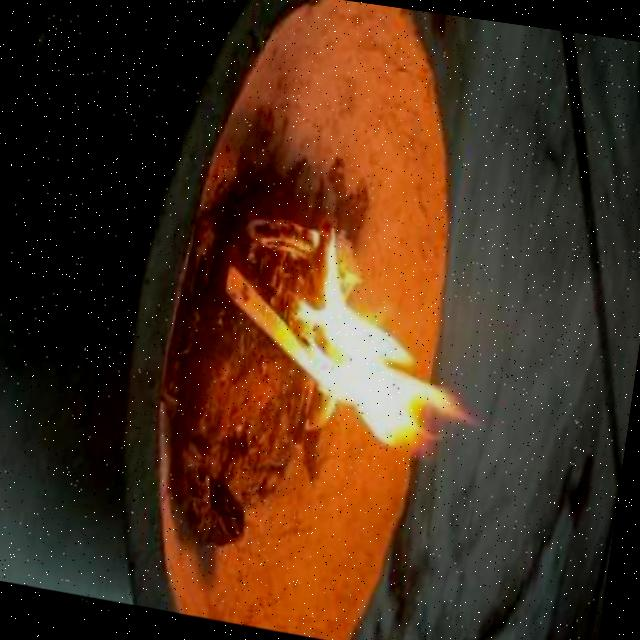fire: (269, 200, 507, 478)
